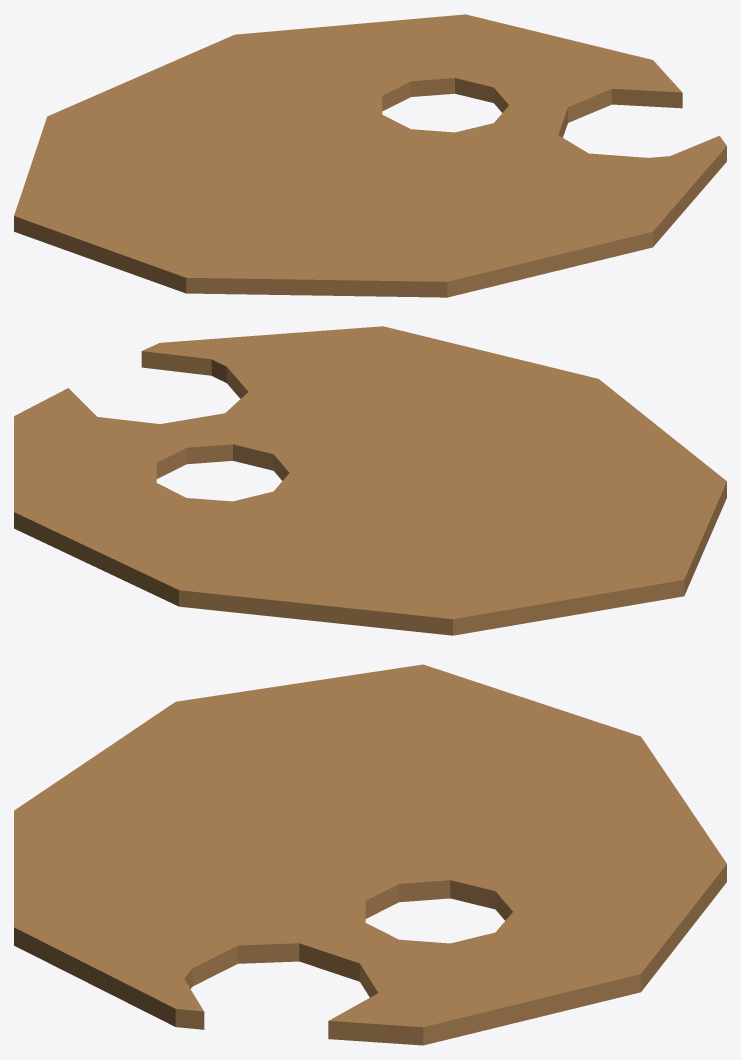
Rendered from verftpallet.fbx.
The picture shows the model from 3 angles, top to bottom: view 1: azimuth 30°, elevation 25°; view 2: azimuth 150°, elevation 25°; view 3: azimuth 270°, elevation 25°; orthographic projection. The views are drawn at different scales.
Parts seen in each view (by area): view 1: Cylinder; view 2: Cylinder; view 3: Cylinder.
Boxes of the visible parts, bbox=[...] form: Cylinder: bbox=[14, 14, 726, 297]; Cylinder: bbox=[14, 326, 726, 635]; Cylinder: bbox=[14, 664, 726, 1045].
Bounding box in the file's own units: 13.53 × 0.3181 × 11.24.
